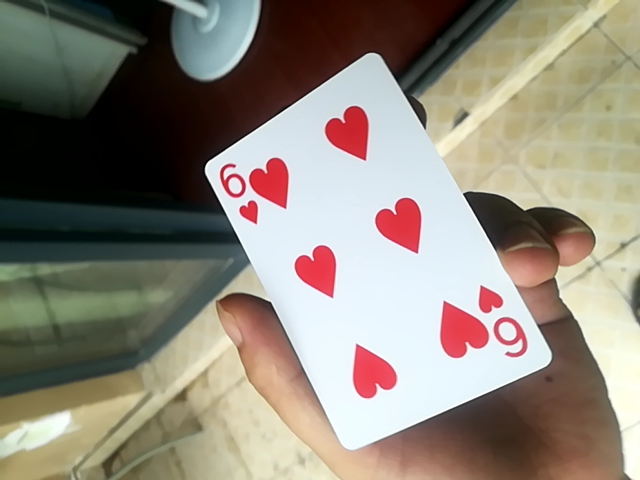hx 6: (201, 55, 548, 452)
